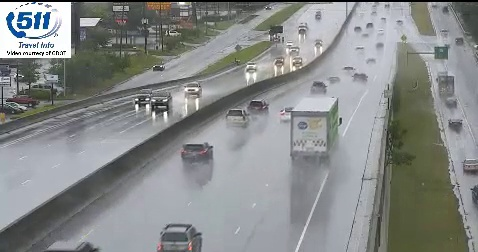car: (158, 225, 203, 251), (183, 144, 212, 165), (226, 110, 248, 127), (248, 100, 269, 117), (279, 107, 298, 122), (311, 82, 326, 94)
small-truck: (291, 97, 339, 161)
